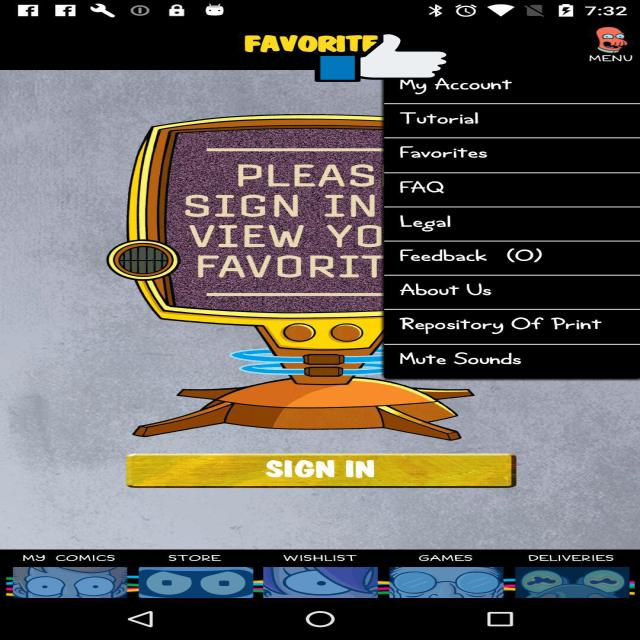privacy zuckering: (315, 31, 452, 83)
